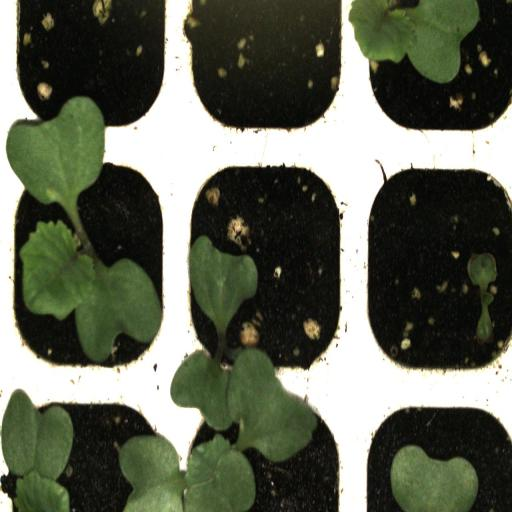Folha: (118, 347, 317, 512), (349, 0, 480, 84), (0, 390, 75, 512), (188, 235, 258, 334), (390, 444, 479, 512)
Germinacao: (175, 150, 355, 390), (0, 148, 174, 390), (356, 152, 512, 392)
